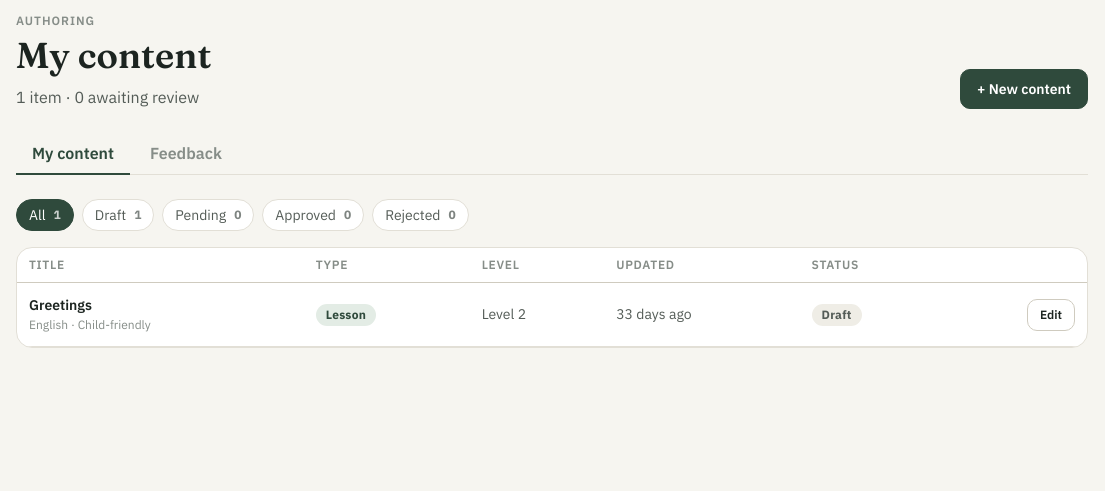
AuthorDashboardScreen › a filter that matches nothing says so, and can be cleared
The image size is (1105, 491).
Click the button with test id "filter-pill-approved". click: x=313, y=215
box: [262,199,364,231]
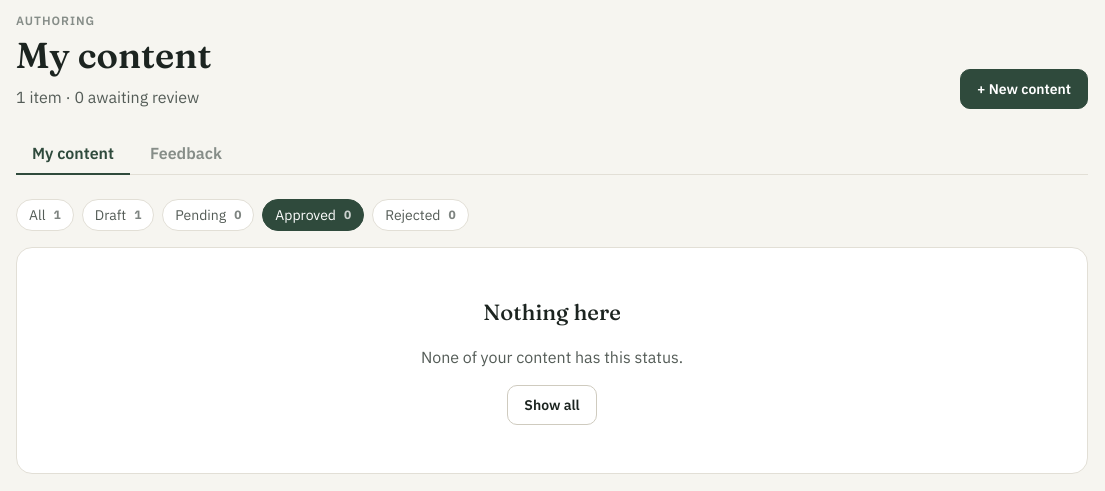
Expected: the element with test id "filter-empty" is shown, [16,247,1088,474]
Click the button "Show all". click: x=552, y=405
box: [507,385,597,425]
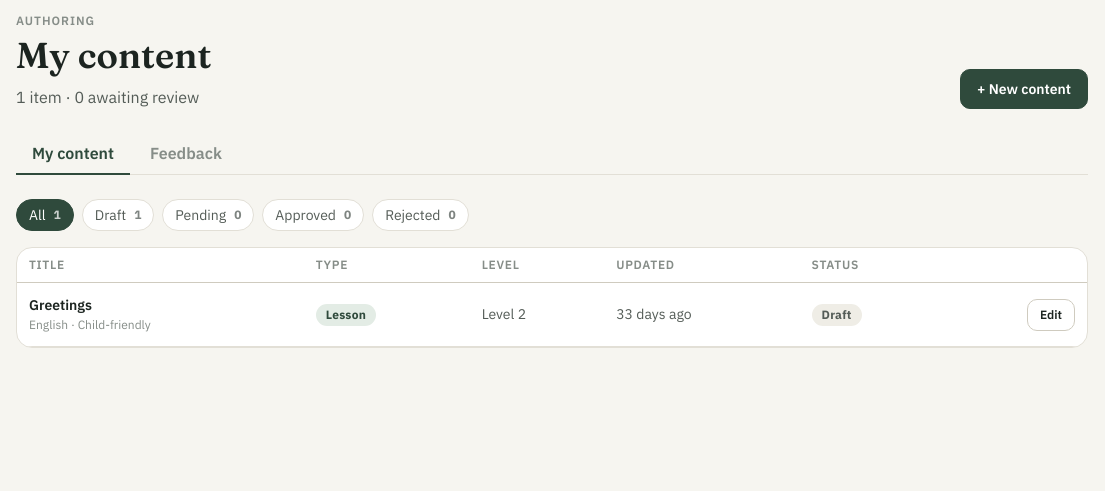
Expected: the number of rows with test id "content-row" is 1, [17,283,1087,347]
